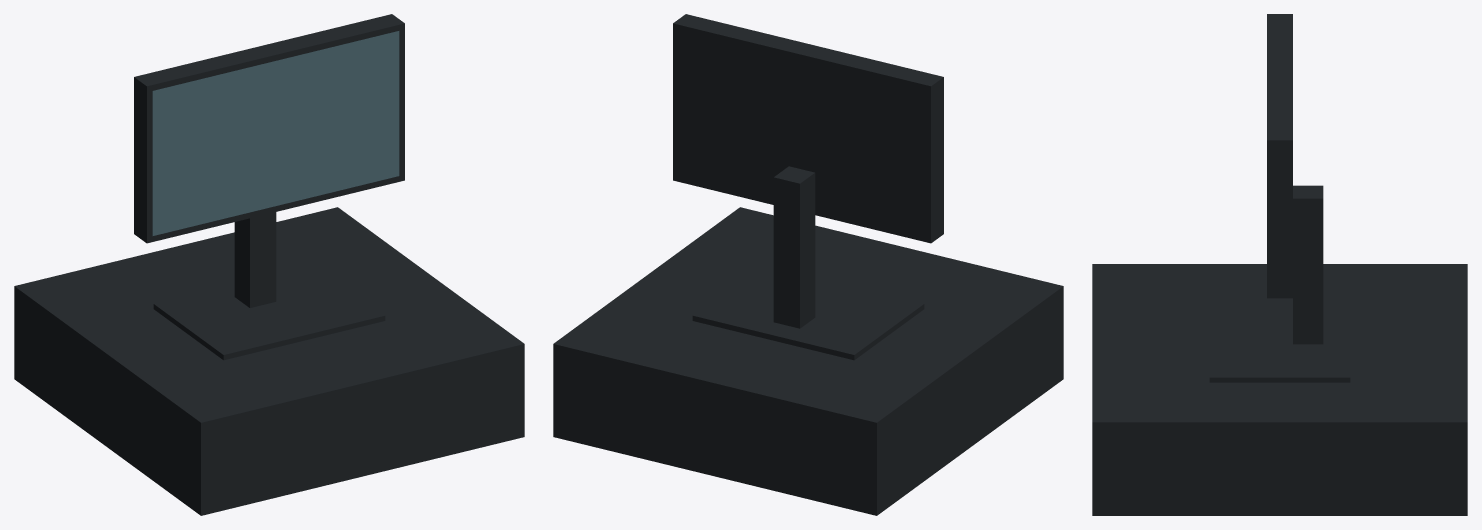
3 views of the same model, side by side, from view 1: azimuth 30°, elevation 25°; view 2: azimuth 150°, elevation 25°; view 3: azimuth 270°, elevation 25° (orthographic).
Visible parts, largest first — view 1: Register exact 16x16x4.4, Toast14 exact active display, Toast visualization stand foot, Toast14 visualization bezel, Toast visualization stand stem; view 2: Register exact 16x16x4.4, Toast14 visualization bezel, Toast visualization stand foot, Toast visualization stand stem, Toast rear stand attachment; view 3: Register exact 16x16x4.4, Toast visualization stand foot, Toast14 visualization bezel, Toast visualization stand stem, Toast rear stand attachment.
Part boxes in pixels (x1,y1,x2,y2): Register exact 16x16x4.4: (14, 207, 524, 515); Toast14 exact active display: (152, 31, 399, 235); Toast visualization stand foot: (153, 264, 385, 360); Toast14 visualization bezel: (134, 14, 404, 243); Toast visualization stand stem: (234, 212, 276, 307); Register exact 16x16x4.4: (553, 207, 1063, 515); Toast14 visualization bezel: (673, 14, 943, 243); Toast visualization stand foot: (692, 264, 924, 360); Toast visualization stand stem: (773, 173, 815, 328); Toast rear stand attachment: (773, 166, 815, 196); Register exact 16x16x4.4: (1092, 264, 1467, 515); Toast visualization stand foot: (1209, 298, 1350, 382); Toast14 visualization bezel: (1267, 14, 1292, 298); Toast visualization stand stem: (1293, 198, 1323, 344); Toast rear stand attachment: (1293, 185, 1323, 211).
Size of the model in its own units: 0.4064 by 0.4296 by 0.4064.
